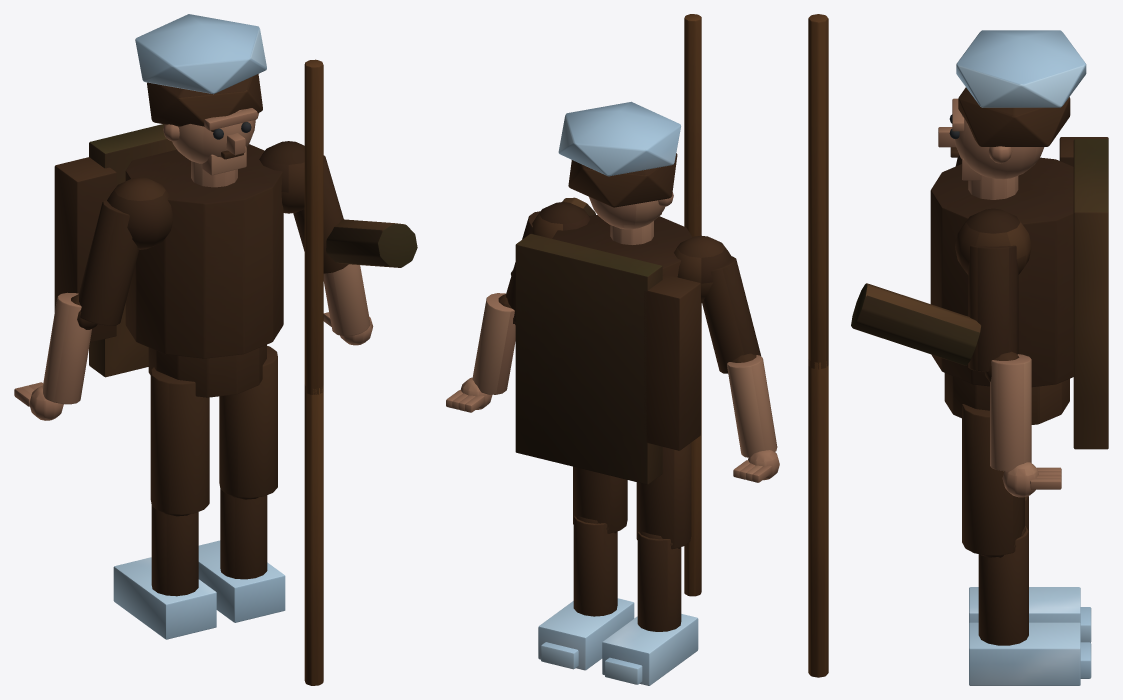
Rendered from unit_outcast_hunt_caller.fbx.
3 renders of one model, left to right at view 1: azimuth 30°, elevation 25°; view 2: azimuth 150°, elevation 25°; view 3: azimuth 270°, elevation 25°, orthographic. The views are drawn at different scales.
Visible parts, largest first — view 1: unit_outcast_hunt_caller; view 2: unit_outcast_hunt_caller; view 3: unit_outcast_hunt_caller.
Boxes of the visible parts, x1,y1,x2,y2 form: unit_outcast_hunt_caller: (14,14,417,685); unit_outcast_hunt_caller: (446,14,779,685); unit_outcast_hunt_caller: (808,14,1108,685).
Size of the model in its own units: 1.18 by 2.07 by 0.8593.
